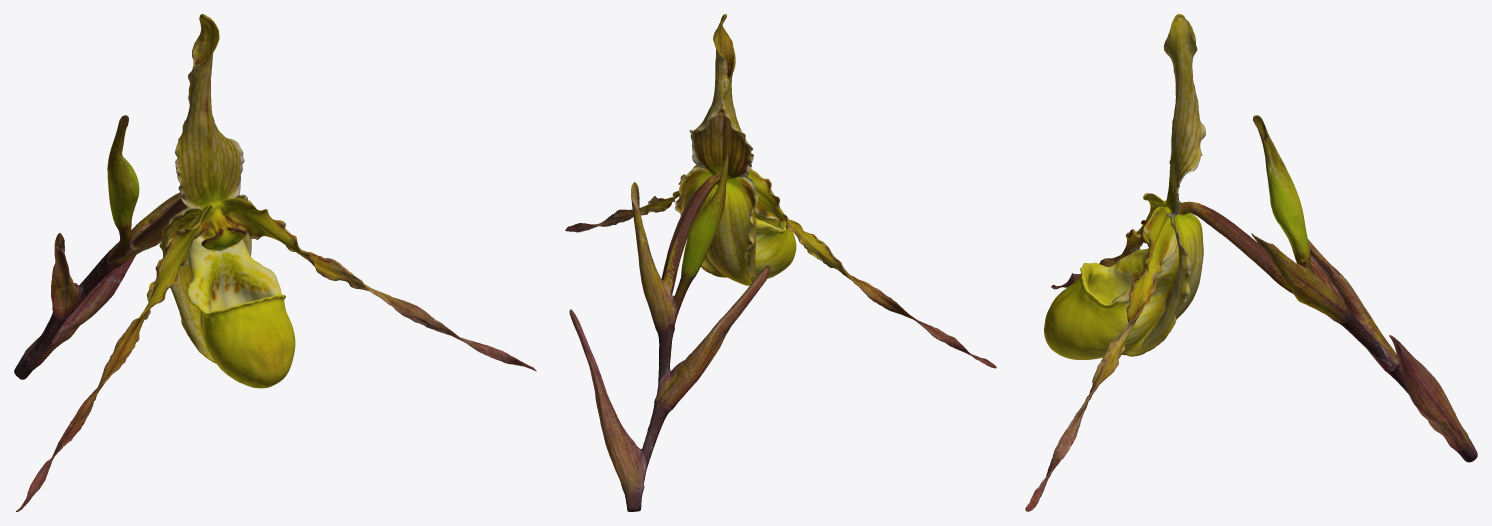
The model's file is phragmipedium-detail.glb.
The picture shows the model from 3 angles, left to right: view 1: azimuth 30°, elevation 25°; view 2: azimuth 150°, elevation 25°; view 3: azimuth 270°, elevation 25°; orthographic projection. The views are drawn at different scales.
Size of the model in its own units: 0.116 by 0.1002 by 0.0883.
Materials: 1 (1 with a texture image).
